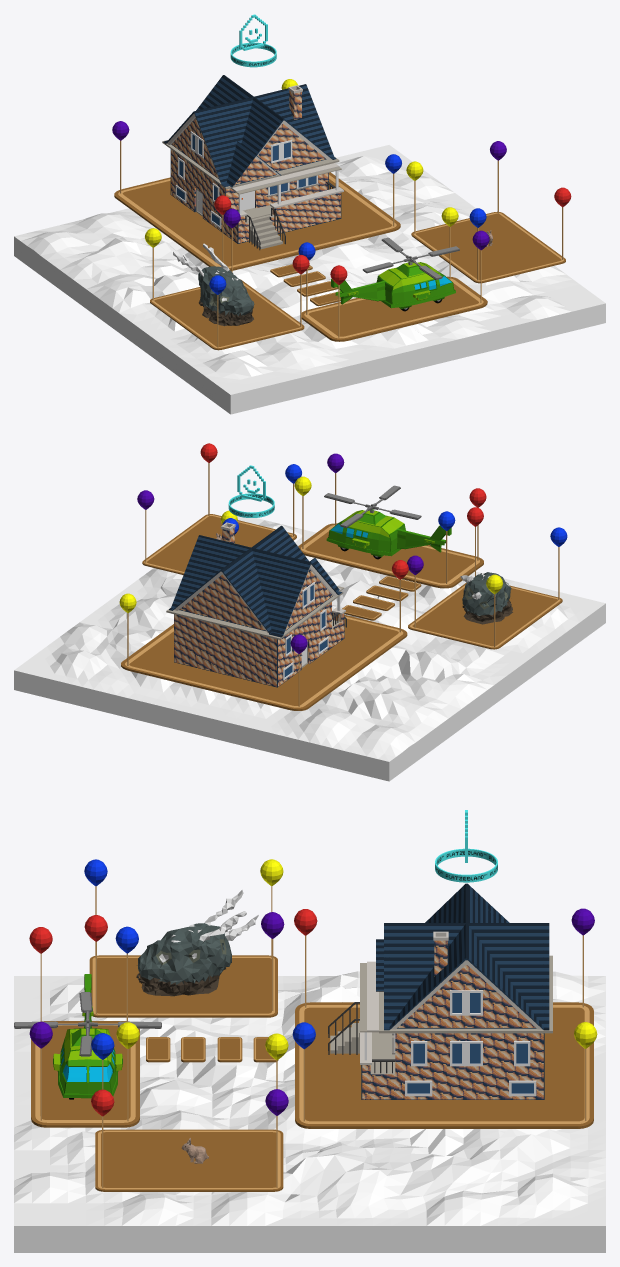
The picture shows the model from 3 angles, top to bottom: view 1: azimuth 30°, elevation 25°; view 2: azimuth 150°, elevation 25°; view 3: azimuth 270°, elevation 25°; orthographic projection. The views are drawn at different scales.
Parts seen in each view (by area): view 1: Cube.013, Cube.430, VEHICLES_HELICOPTER, OBJRANDOM_METEORITE, TYPE_PREMIUM; view 2: Cube.013, Cube.430, VEHICLES_HELICOPTER, OBJRANDOM_METEORITE, TYPE_PREMIUM; view 3: Cube.013, Cube.430, OBJRANDOM_METEORITE, VEHICLES_HELICOPTER, TYPE_PREMIUM.
Part boxes in pixels (<box>): Cube.013: <box>14,79,605,414</box>; Cube.430: <box>162,75,343,250</box>; VEHICLES_HELICOPTER: <box>331,237,459,311</box>; OBJRANDOM_METEORITE: <box>173,243,254,326</box>; TYPE_PREMIUM: <box>230,14,276,67</box>; Cube.013: <box>14,443,605,781</box>; Cube.430: <box>166,522,346,687</box>; VEHICLES_HELICOPTER: <box>324,485,451,559</box>; OBJRANDOM_METEORITE: <box>460,572,512,624</box>; TYPE_PREMIUM: <box>228,465,274,517</box>; Cube.013: <box>14,859,605,1252</box>; Cube.430: <box>328,883,552,1099</box>; OBJRANDOM_METEORITE: <box>136,890,258,996</box>; VEHICLES_HELICOPTER: <box>14,974,161,1099</box>; TYPE_PREMIUM: <box>435,810,497,882</box>.
Size of the model in its own units: 4000 by 2393 by 4001.
Materials: 39 (4 with a texture image).
